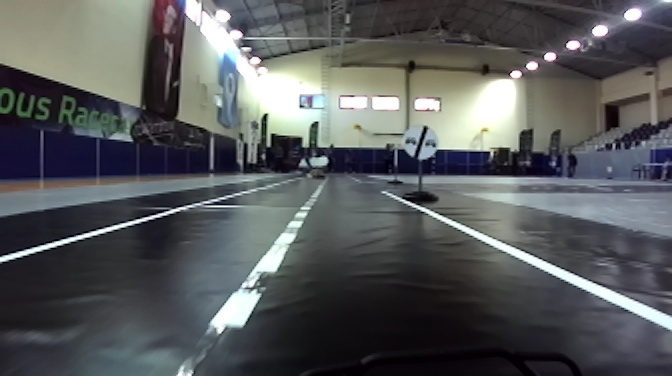sollama_serbest: (398, 124, 439, 163)
